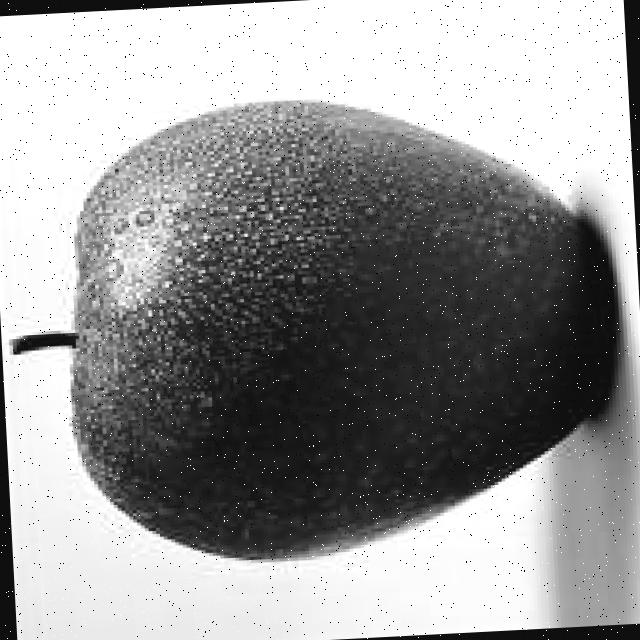apple: (51, 82, 626, 576)
